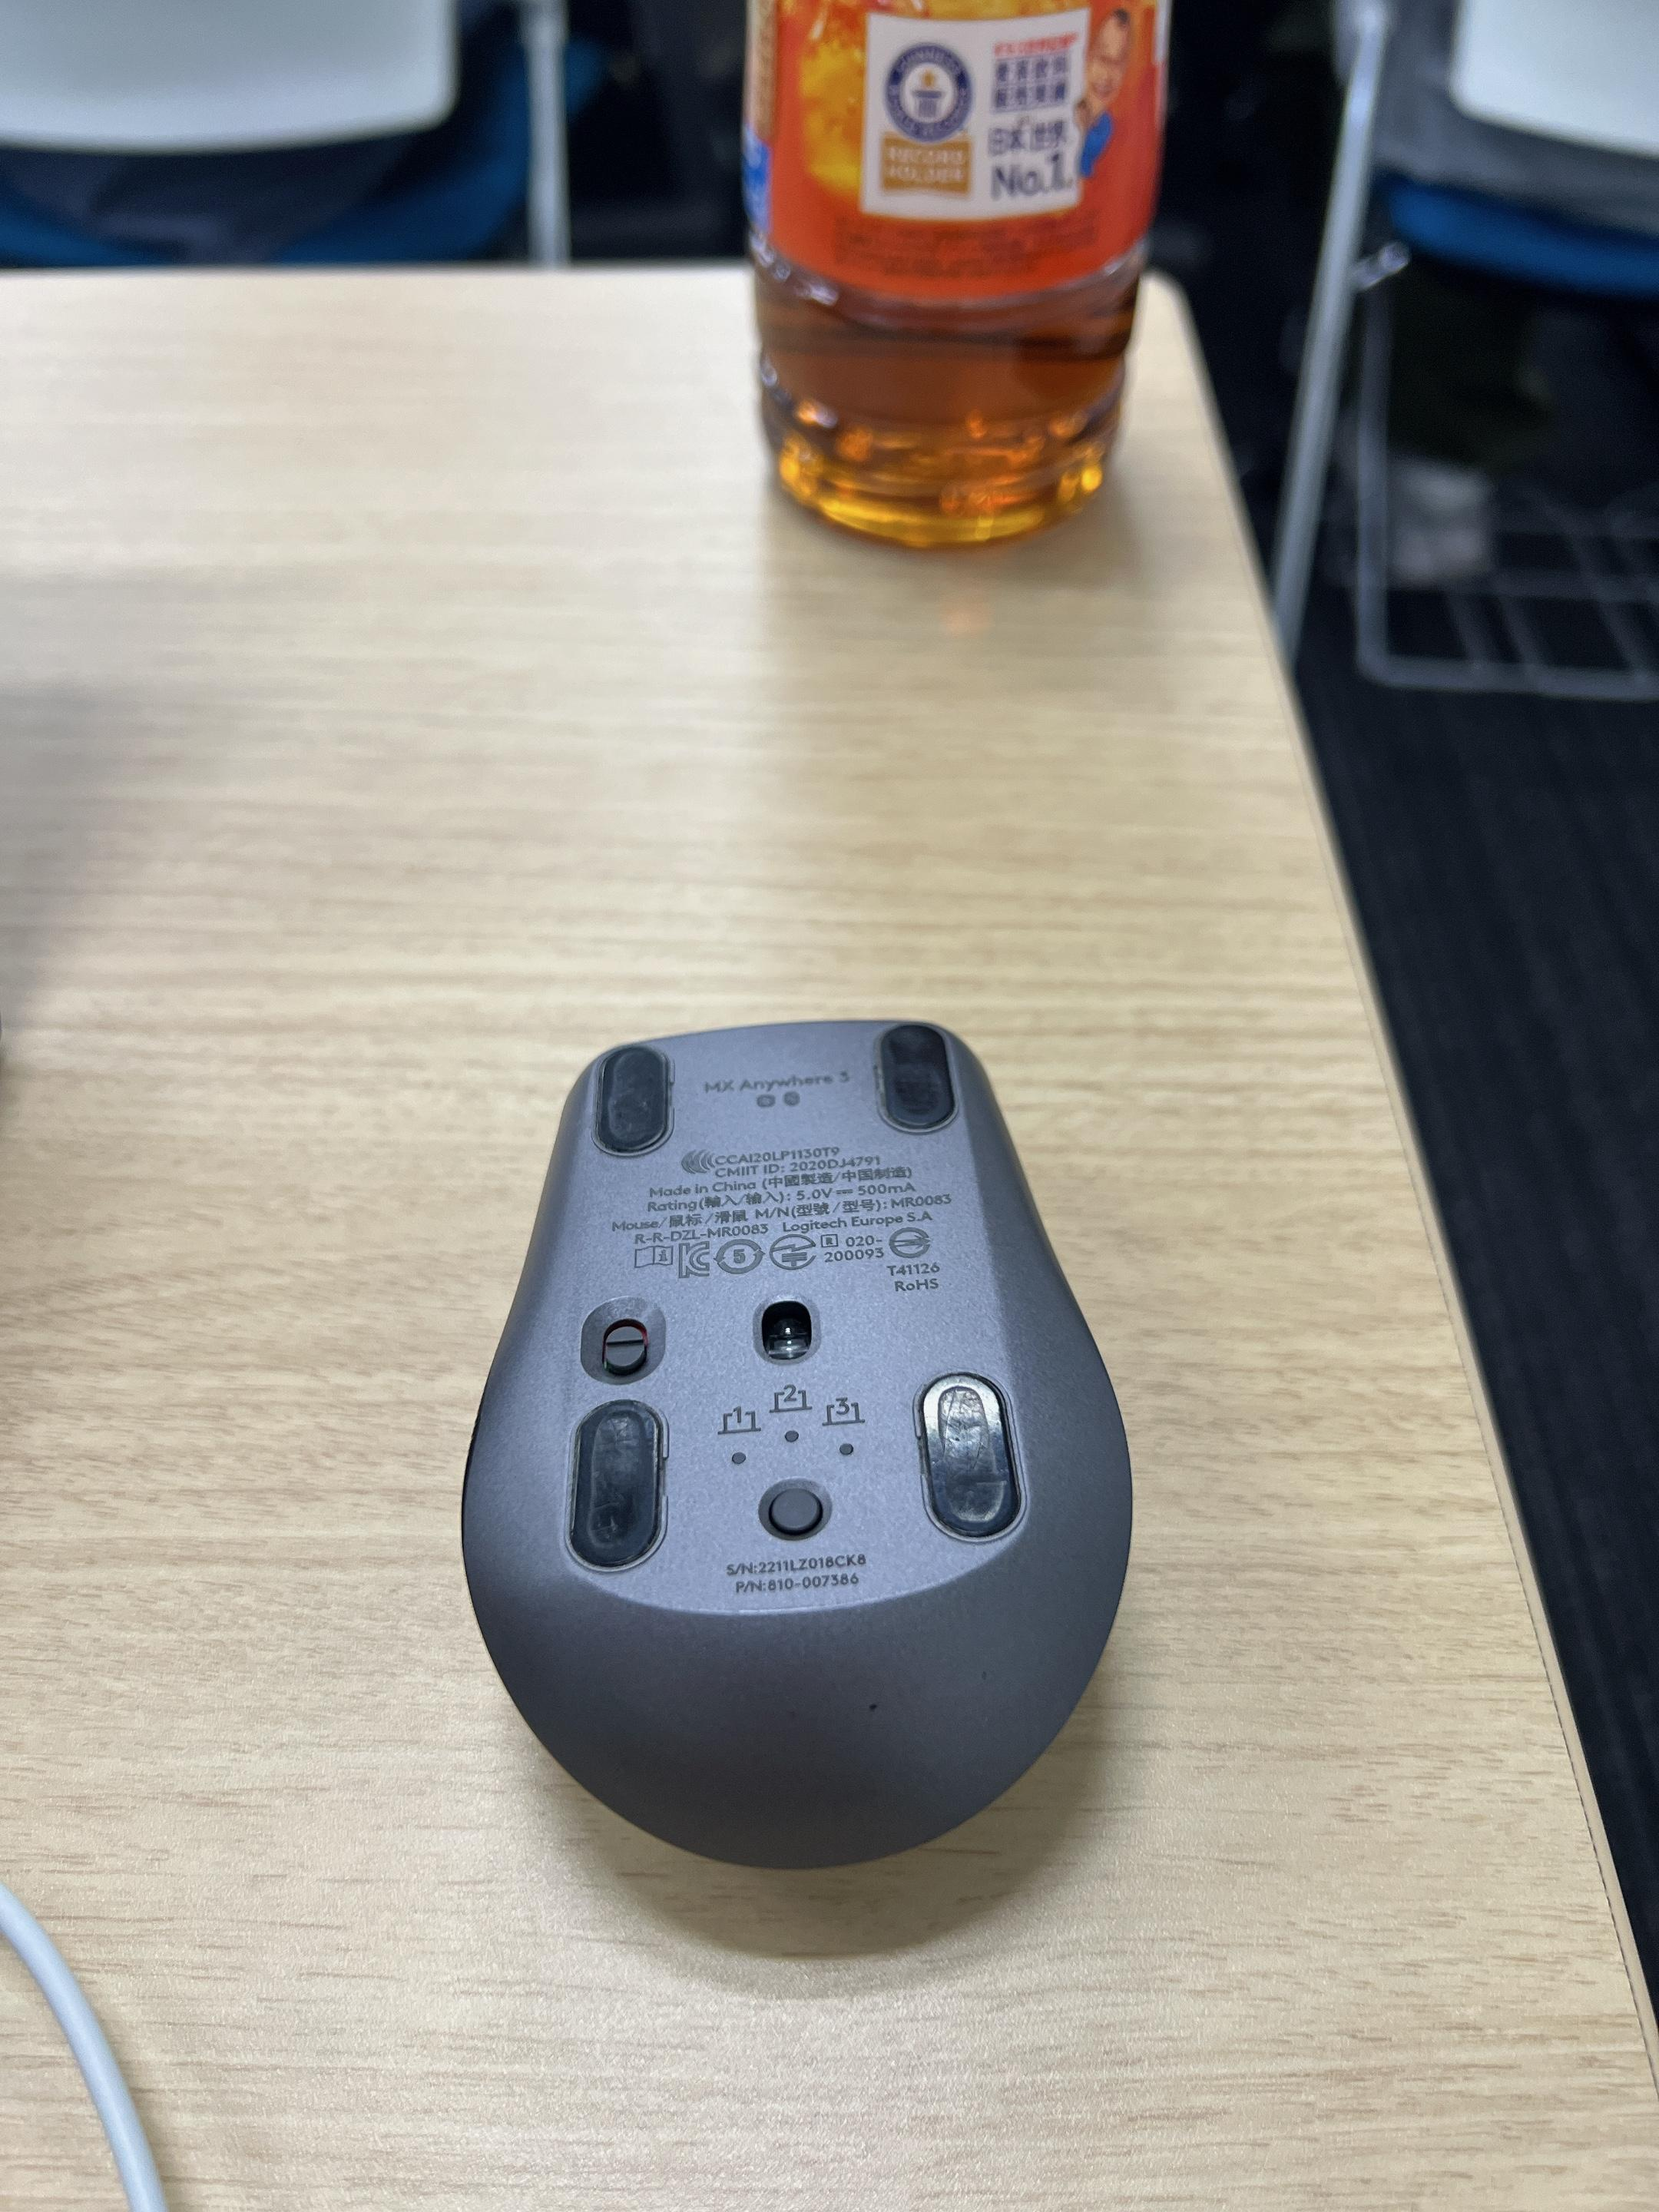mouse: (293, 954, 1281, 1888)
